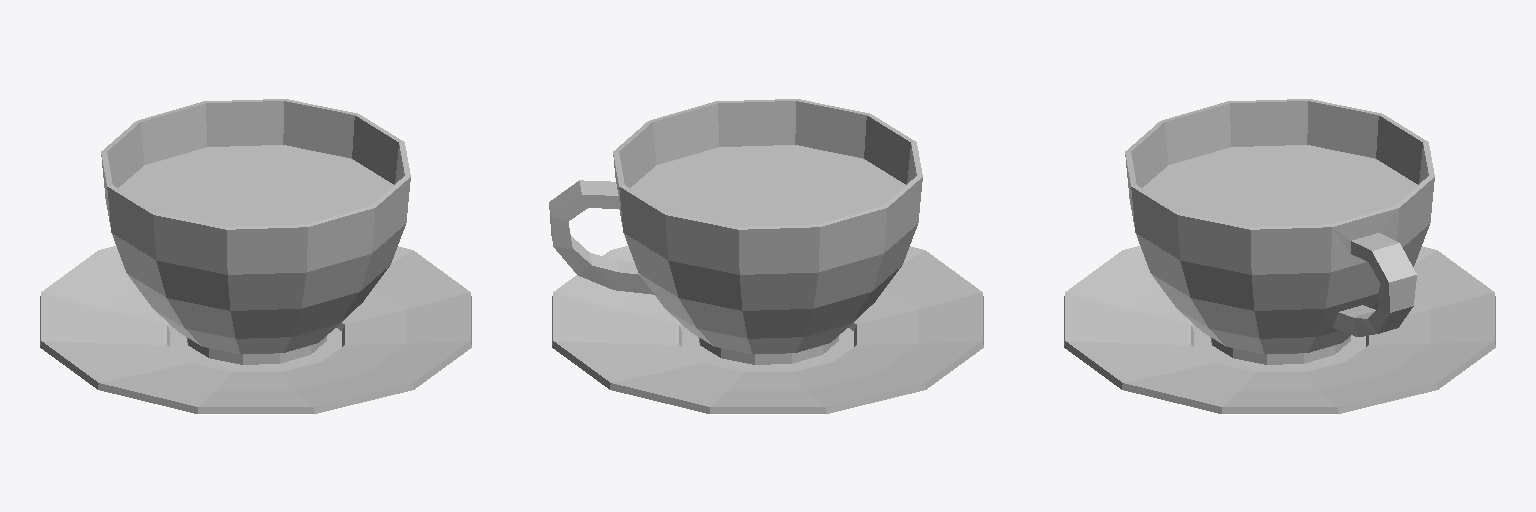
Rendered from coffee cup.obj.
The picture shows the model from 3 angles: view 1: azimuth 30°, elevation 25°; view 2: azimuth 150°, elevation 25°; view 3: azimuth 270°, elevation 25°; orthographic projection.
Size of the model in its own units: 3.47 by 1.64 by 3.47.